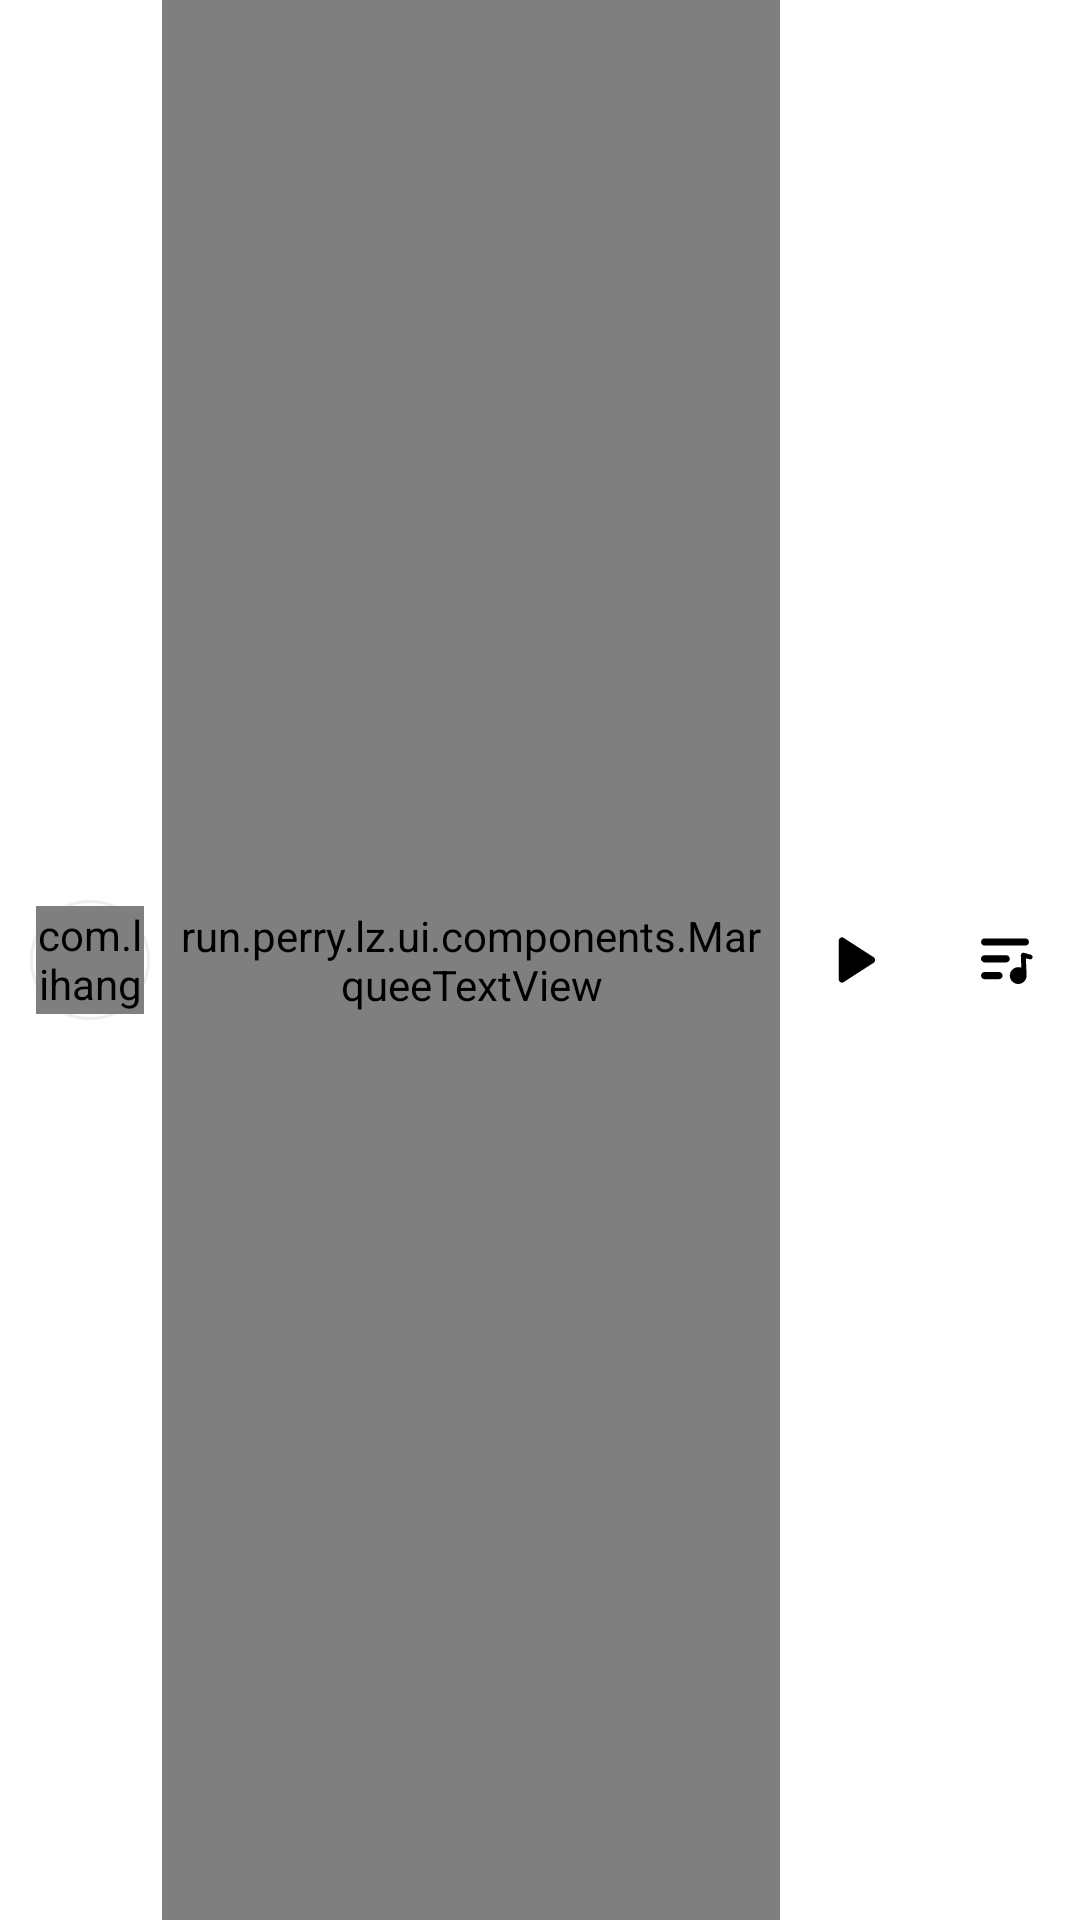

Where icons sit on this 1080w x 1920h app screen, as (x1, y1, x2, y2):
bar play: (838, 937, 875, 983)
bar playlist: (981, 938, 1033, 984)
